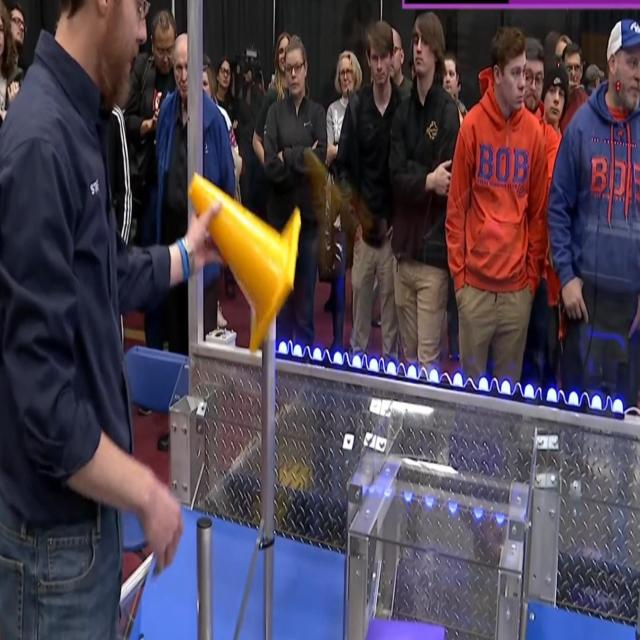frc_cone: (188, 169, 301, 355)
frc_cube: (360, 616, 461, 640)
